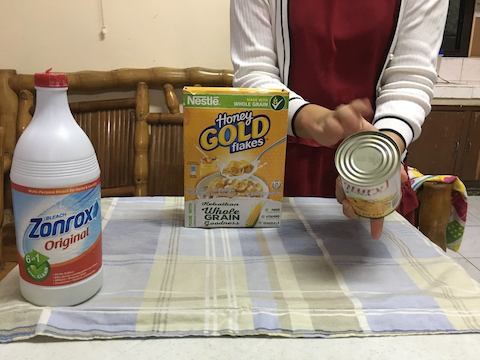bottle: (10, 68, 110, 307)
box: (179, 84, 293, 231)
can: (334, 131, 406, 223)
grab: (330, 173, 394, 239)
